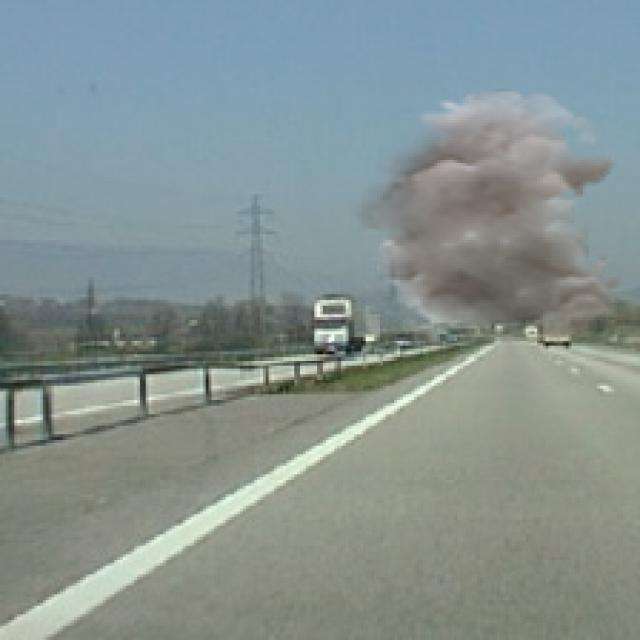Smoke: (343, 88, 623, 340)
